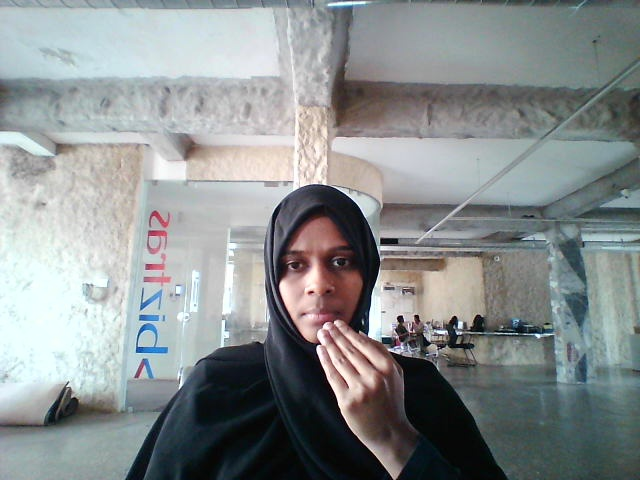THANKS: (295, 315, 453, 468)
